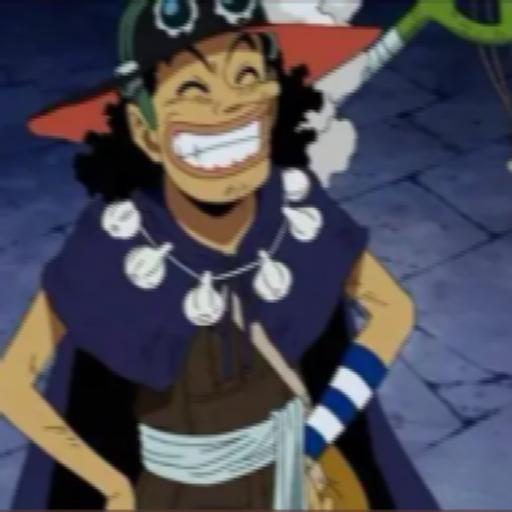Usopp: (2, 1, 418, 512)
